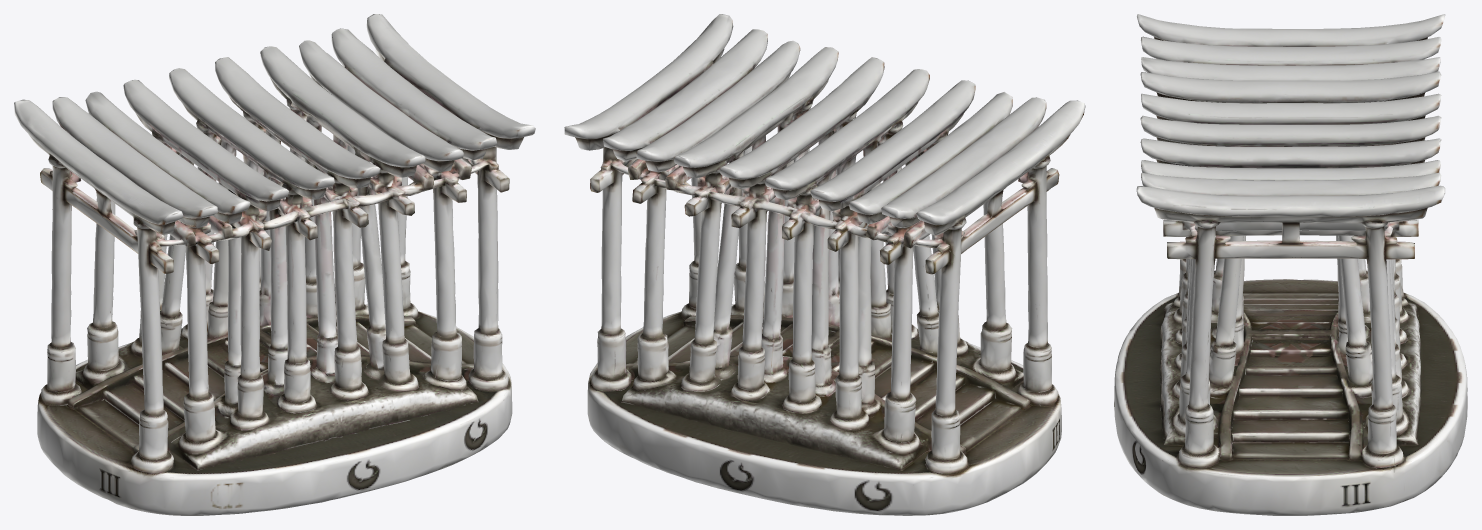
File: fushimi_inari_silver.glb
3 views of the same model, side by side, from view 1: azimuth 30°, elevation 25°; view 2: azimuth 150°, elevation 25°; view 3: azimuth 270°, elevation 25° (orthographic).
Visible parts, largest first — view 1: Mesh_0; view 2: Mesh_0; view 3: Mesh_0.
Part boxes in pixels (box(x1,y1,x2,y2)): Mesh_0: box(14, 14, 535, 515); Mesh_0: box(564, 14, 1085, 515); Mesh_0: box(1114, 14, 1467, 515).
Bounding box in the file's own units: 1.91 × 1.4 × 1.42.
1 material, 1 textured.
